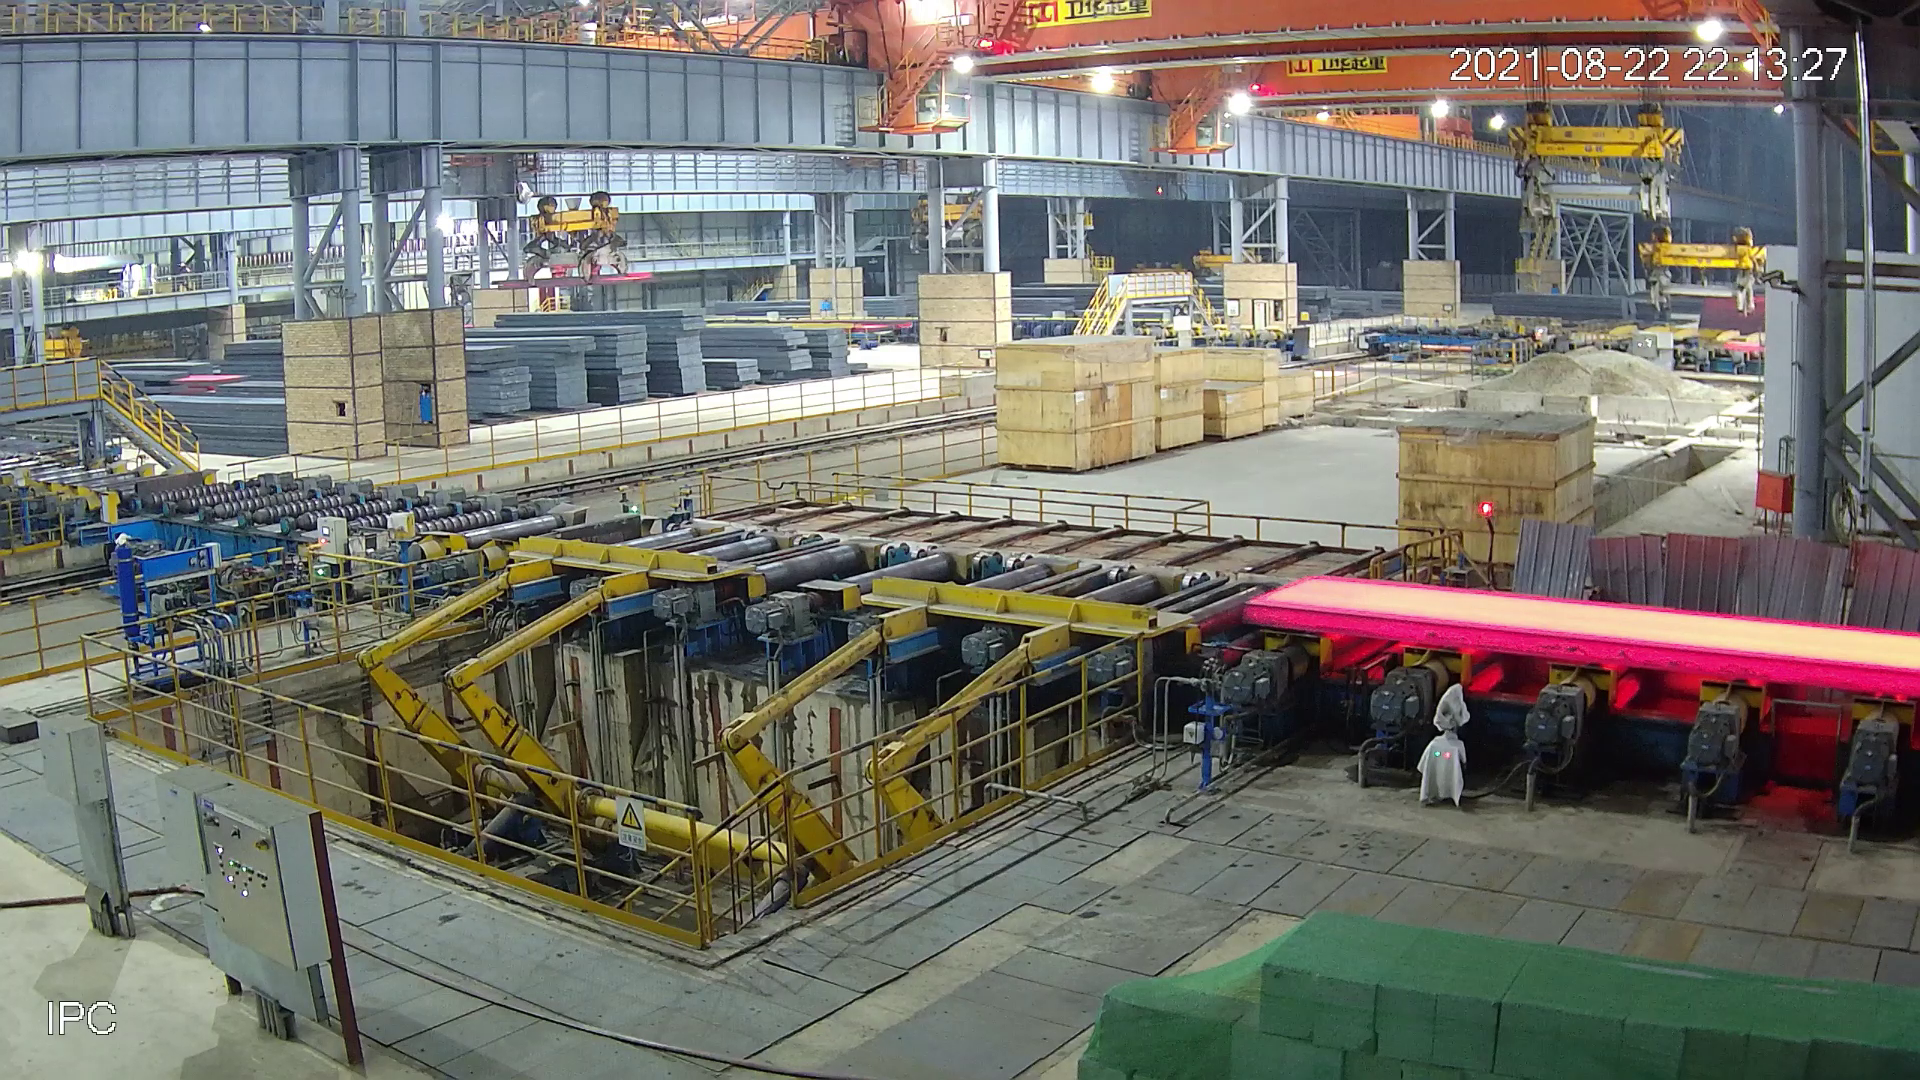slab: (1244, 574, 1920, 696)
